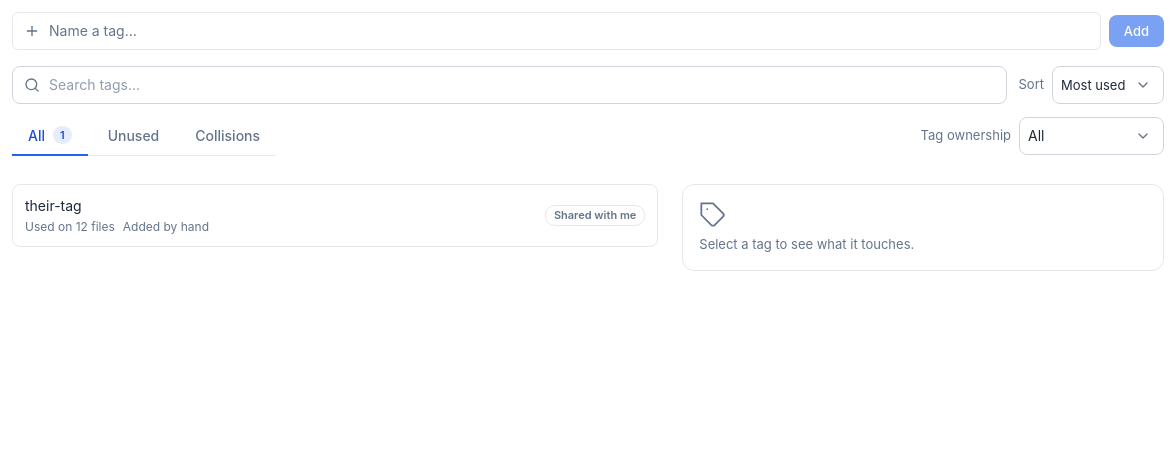
tag manager modal › ownership gating › offers no write controls for a tag shared with me
The image size is (1176, 469).
What coordinates should you click on to do the following:
click the option "their-tag Used on 12 files Added by hand Shared with me"
I would click on:
 (53, 206)
Its box is [12,184,658,247].
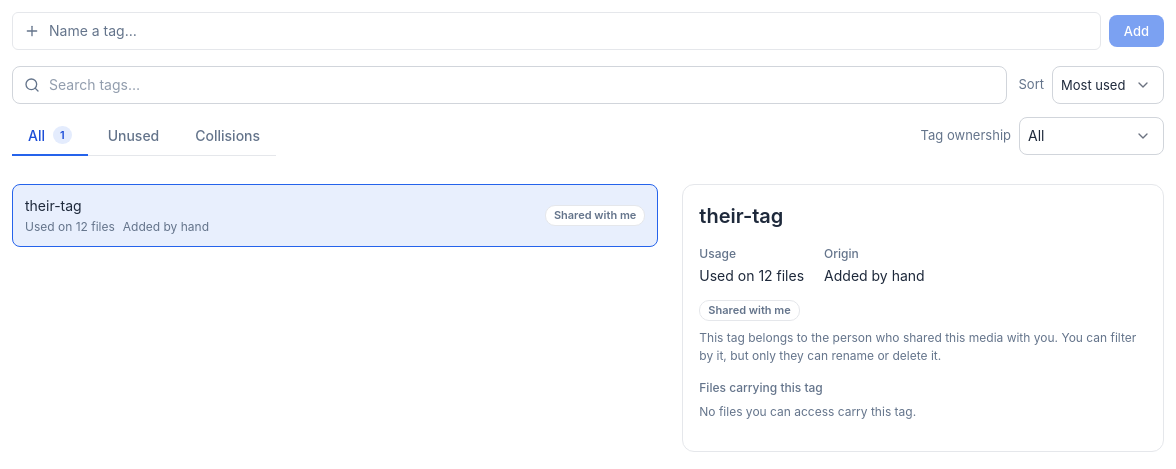
Now the text "Shared with me" is shown 2 times, box [545,205,645,226]; [699,300,800,321]
